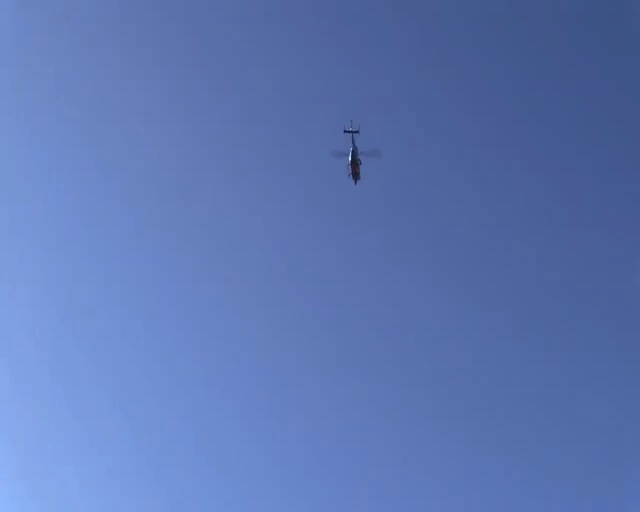HELICOPTER: (329, 118, 381, 185)
